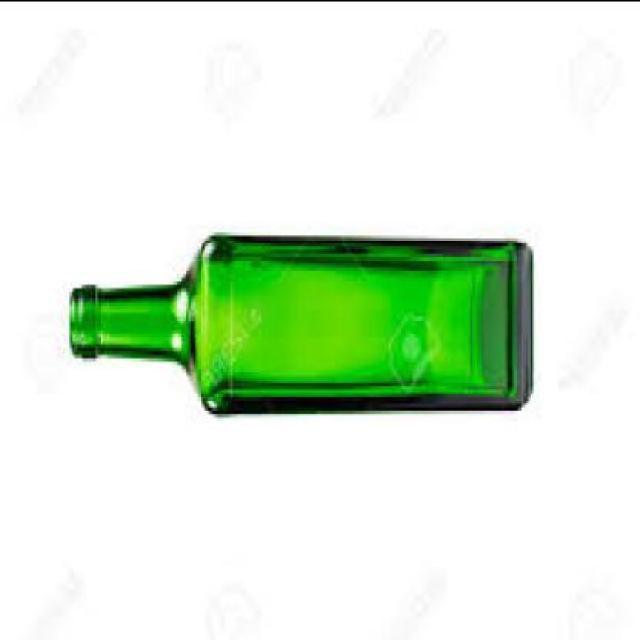GLASS: (65, 231, 530, 409)
